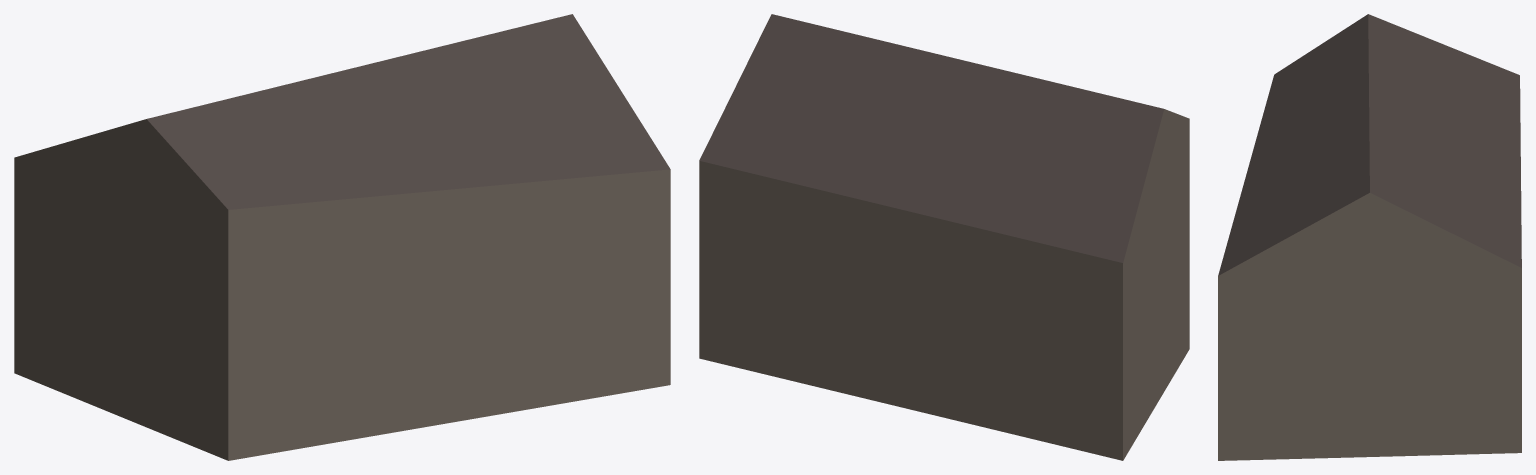
The picture shows the model from 3 angles, left to right: view 1: azimuth 30°, elevation 25°; view 2: azimuth 150°, elevation 25°; view 3: azimuth 270°, elevation 25°; orthographic projection. The views are drawn at different scales.
Visible parts, largest first — view 1: HP-w1515071152; view 2: HP-w1515071152; view 3: HP-w1515071152.
Part boxes in pixels (left/top/right/bottom): HP-w1515071152: left=14, top=14, right=670, bottom=460; HP-w1515071152: left=699, top=14, right=1189, bottom=460; HP-w1515071152: left=1218, top=14, right=1521, bottom=460.
Size of the model in its own units: 13.98 by 8.58 by 8.94.
